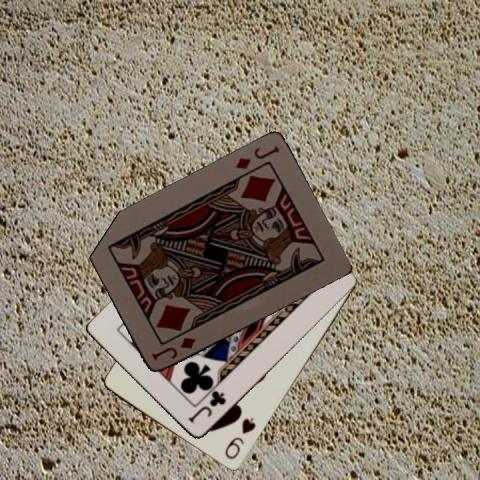9s: (222, 415, 258, 461)
Jc: (185, 389, 228, 424)
Jd: (149, 334, 197, 363), (233, 143, 281, 171)
